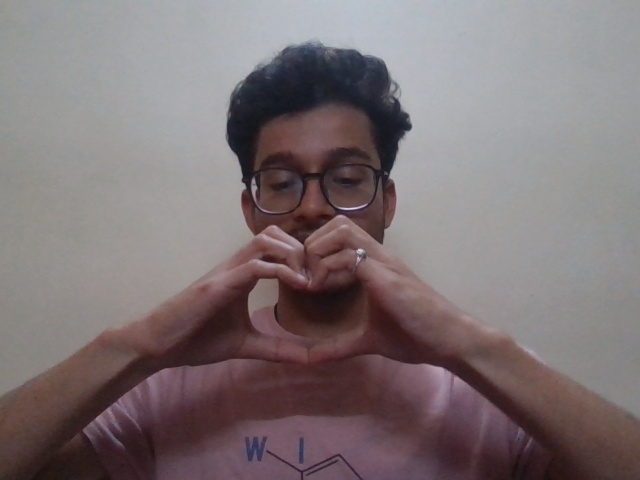silent-voice: (170, 202, 455, 380)
